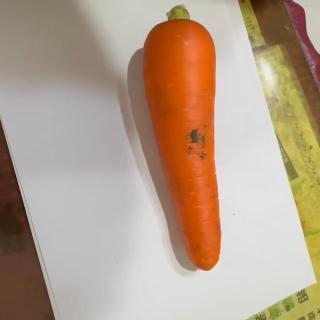carrot: (142, 4, 222, 272)
